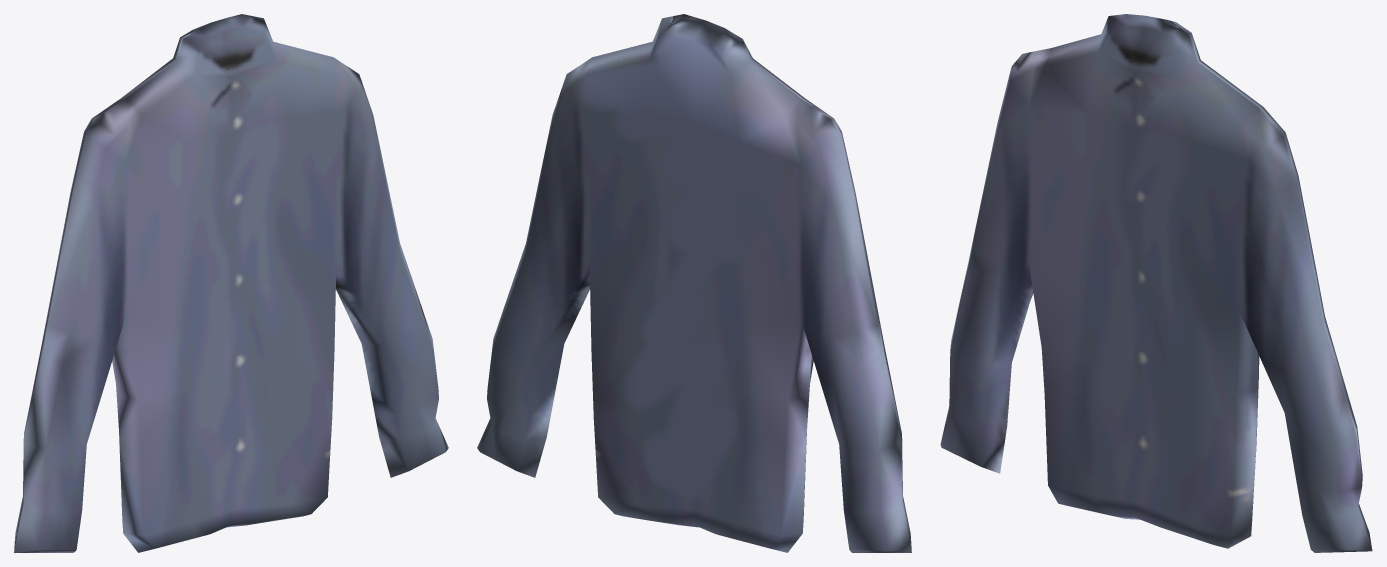
The model's file is prop_fuku03.fbx.
3 views of the same model, side by side, from view 1: azimuth 30°, elevation 25°; view 2: azimuth 150°, elevation 25°; view 3: azimuth 330°, elevation 25° (orthographic).
Visible parts, largest first — view 1: prop_fuku03; view 2: prop_fuku03; view 3: prop_fuku03.
Boxes of the visible parts, left/top/right/bottom form: prop_fuku03: left=14, top=14, right=448, bottom=552; prop_fuku03: left=477, top=14, right=911, bottom=552; prop_fuku03: left=940, top=14, right=1372, bottom=552.
Bounding box in the file's own units: 0.6547 × 0.7444 × 0.0583.
